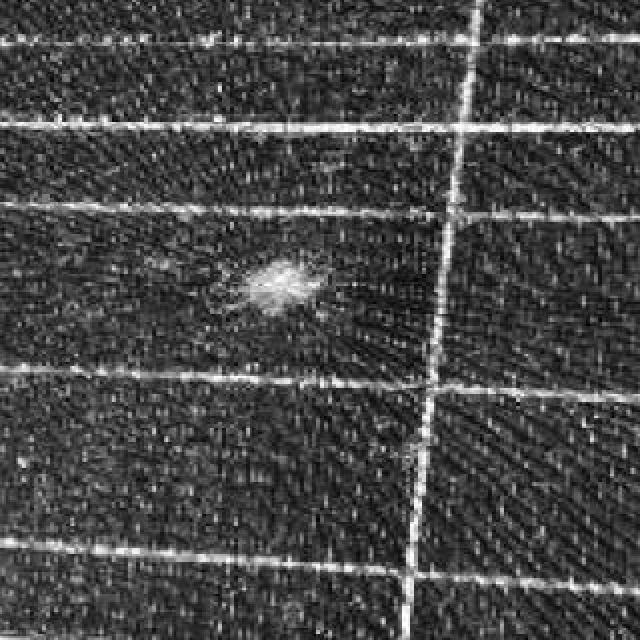Physical-damage: (200, 198, 384, 370)
